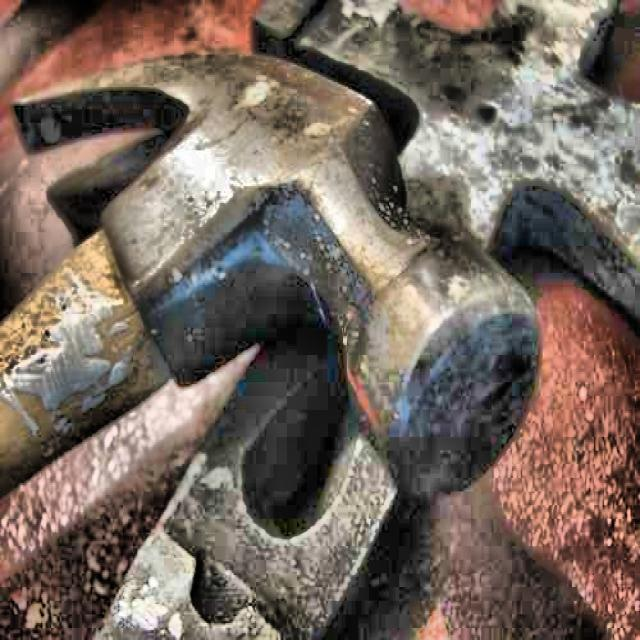hammer: (0, 49, 546, 495)
